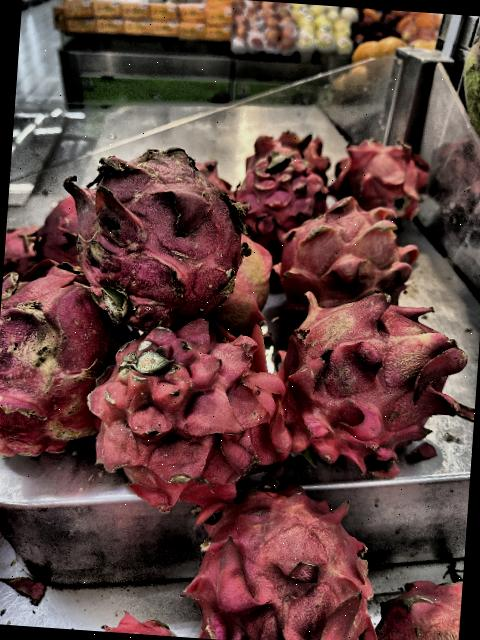buah-naga-matang: (48, 141, 257, 334), (82, 332, 296, 502), (274, 292, 478, 467), (187, 488, 388, 640), (0, 251, 132, 464), (278, 190, 426, 318), (327, 128, 434, 214), (235, 150, 324, 229), (372, 572, 462, 640)
